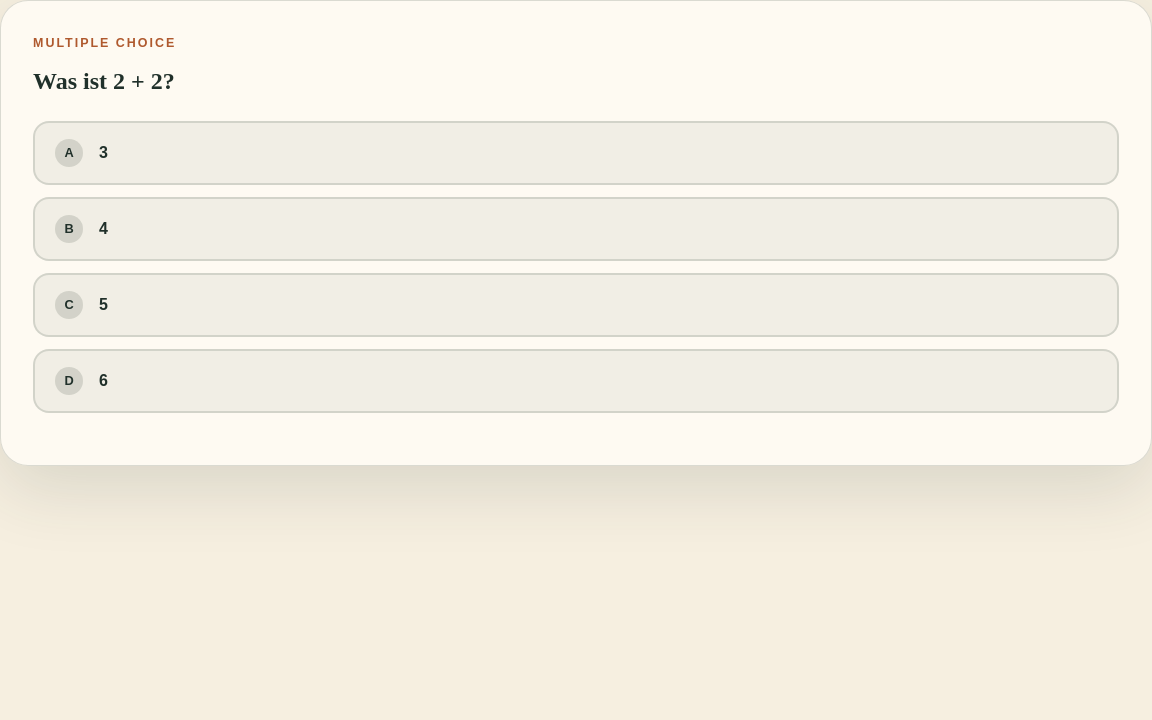
Test: MultipleChoiceCard › zeigt nach richtiger Antwort die Erklärung und '✓ Richtig!'
Click the button "B 4" at (69, 229), box x1=33 y1=197 x2=1119 y2=261
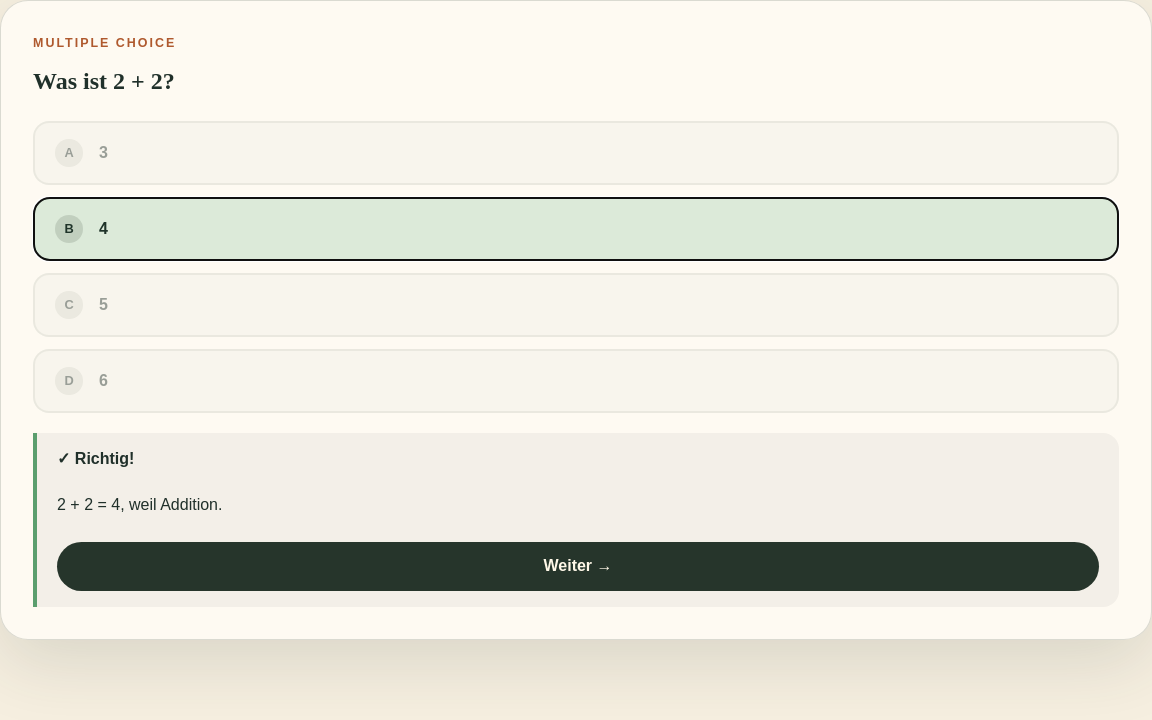
Expected: the text "✓ Richtig!" is shown, x1=57 y1=450 x2=134 y2=467
Expected: the text "2 + 2 = 4, weil Addition." is shown, x1=57 y1=496 x2=222 y2=513
